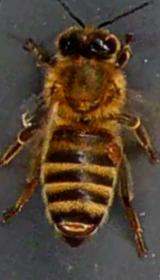varroa_mite: (93, 132, 128, 168)
